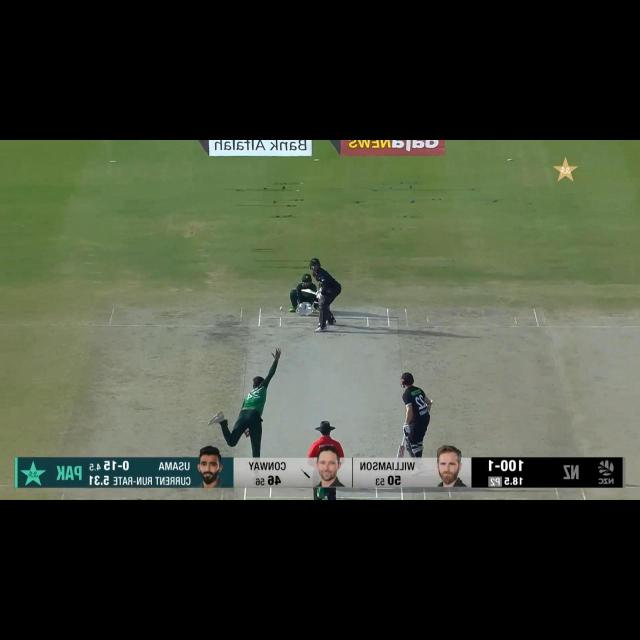bat: (395, 443, 407, 459), (300, 285, 318, 295)
toe: (300, 287, 309, 294)
